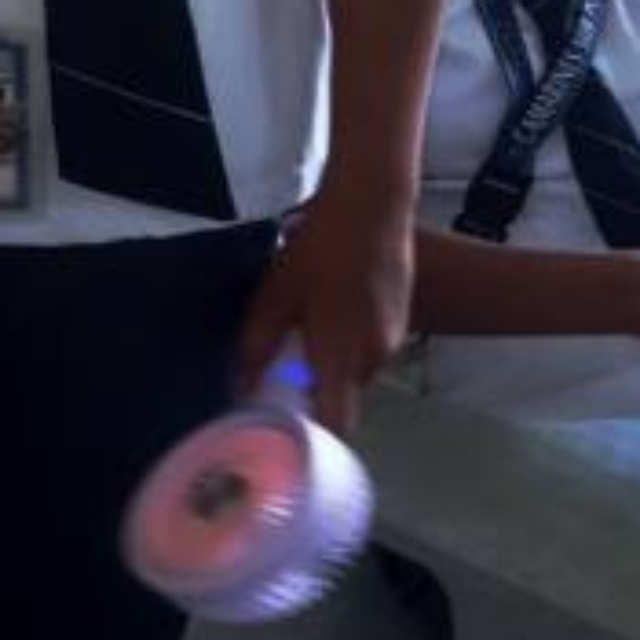thumbs_up: (219, 187, 421, 453)
